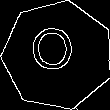O_S: (35, 29, 80, 82)
